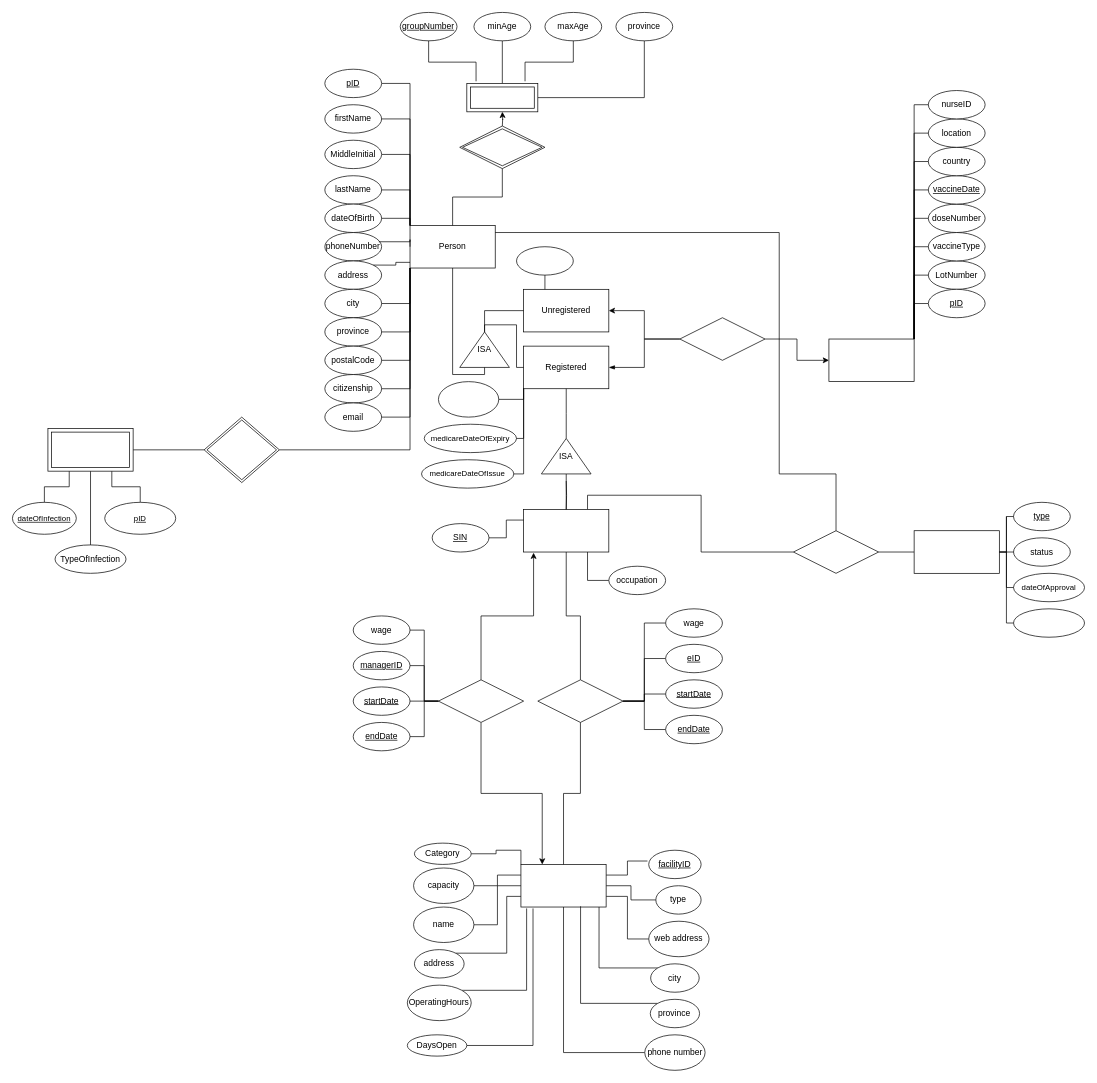
Image size: 1097x1083. Some labels were removed from this diagram. The centre of each missing label's shape, as x and y in pixels:
"administers" belongs at [836,551].
"Age Group" belongs at [502,97].
"BelongsTo" belongs at [502,147].
"dateOfSuspension" belongs at [1049,622].
"hasBeenVaccinated" belongs at [722,338].
"infectedBy" belongs at [241,449].
"InfectionHistory" belongs at [90,449].
"manages" belongs at [481,700].
"medicareNum" belongs at [468,399].
"passportNum" belongs at [544,260].
"PublicHealthWorker" belongs at [566,530].
"Vaccination Facility" belongs at [563,885].
"Vaccine" belongs at [956,551].
"VaccineRecord" belongs at [871,360].
"worksAt" belongs at [580,700].
